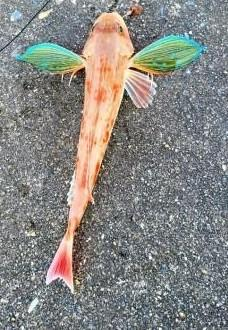fish: (18, 12, 202, 293)
